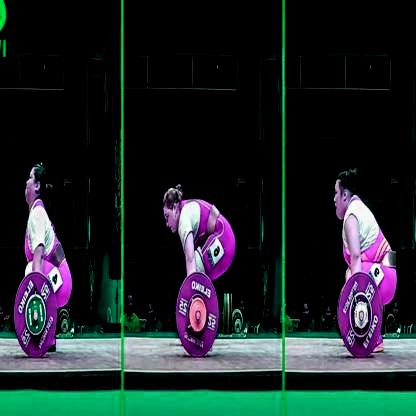Barbell: (351, 299, 366, 330), (28, 299, 36, 333), (190, 309, 204, 325)
